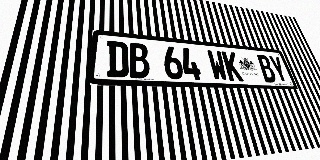4: (179, 47, 202, 80)
6: (162, 46, 184, 80)
B: (128, 42, 150, 78), (255, 54, 278, 83)
D: (107, 40, 129, 78)
K: (221, 51, 244, 81)
W: (206, 50, 229, 81)
Y: (268, 55, 290, 83)
